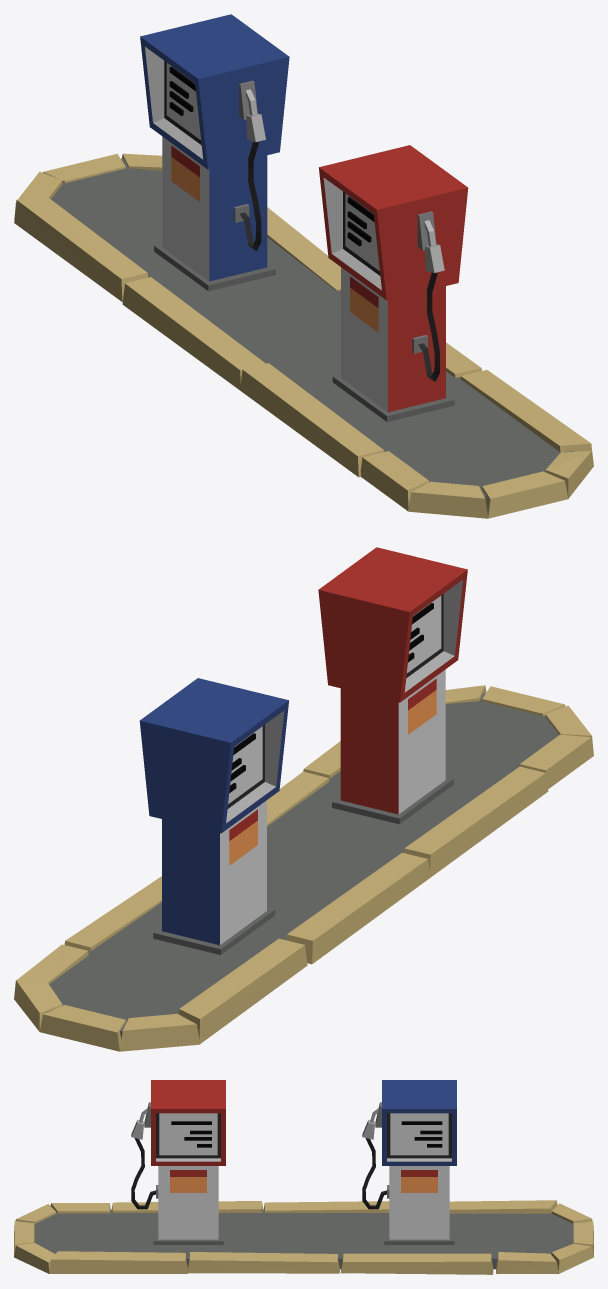
Rendered from SM_gasPumpsModern.gltf.
The picture shows the model from 3 angles, top to bottom: view 1: azimuth 30°, elevation 25°; view 2: azimuth 150°, elevation 25°; view 3: azimuth 270°, elevation 25°; orthographic projection. The views are drawn at different scales.
Visible parts, largest first — view 1: SM_gasPumpsModern; view 2: SM_gasPumpsModern; view 3: SM_gasPumpsModern.
Part boxes in pixels (x1,y1,x2,y2): SM_gasPumpsModern: [14, 14, 593, 518]; SM_gasPumpsModern: [14, 547, 593, 1051]; SM_gasPumpsModern: [14, 1080, 593, 1274].
Size of the model in its own units: 1.23 by 1.44 by 5.02.
1 material, 1 textured.
